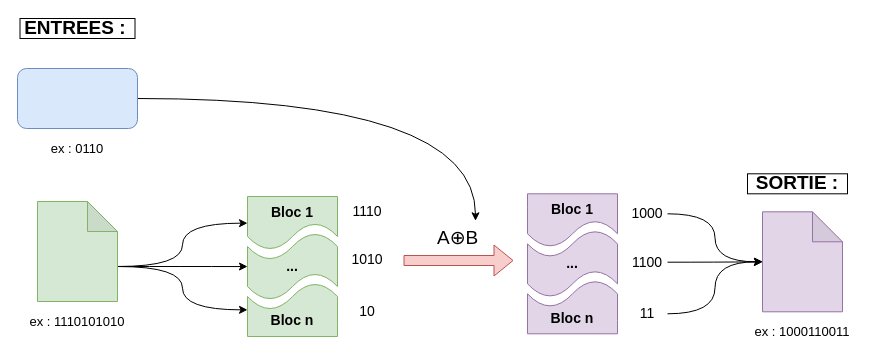
The diagram is 875 pixels wide and 359 high, and some of its shapes have lost their labels. Each missing label, with the centre of its shape:
"chaîne binaire à dissimuler" belongs at [77,251].
"Clé binaire de taille k" belongs at [77,98].
"Nouvelle chaîne" belongs at [802,261].
